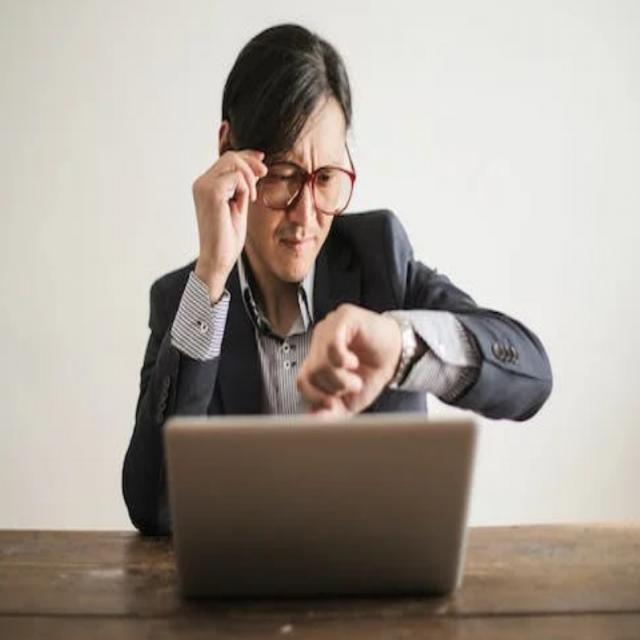Watch: (383, 302, 417, 396)
